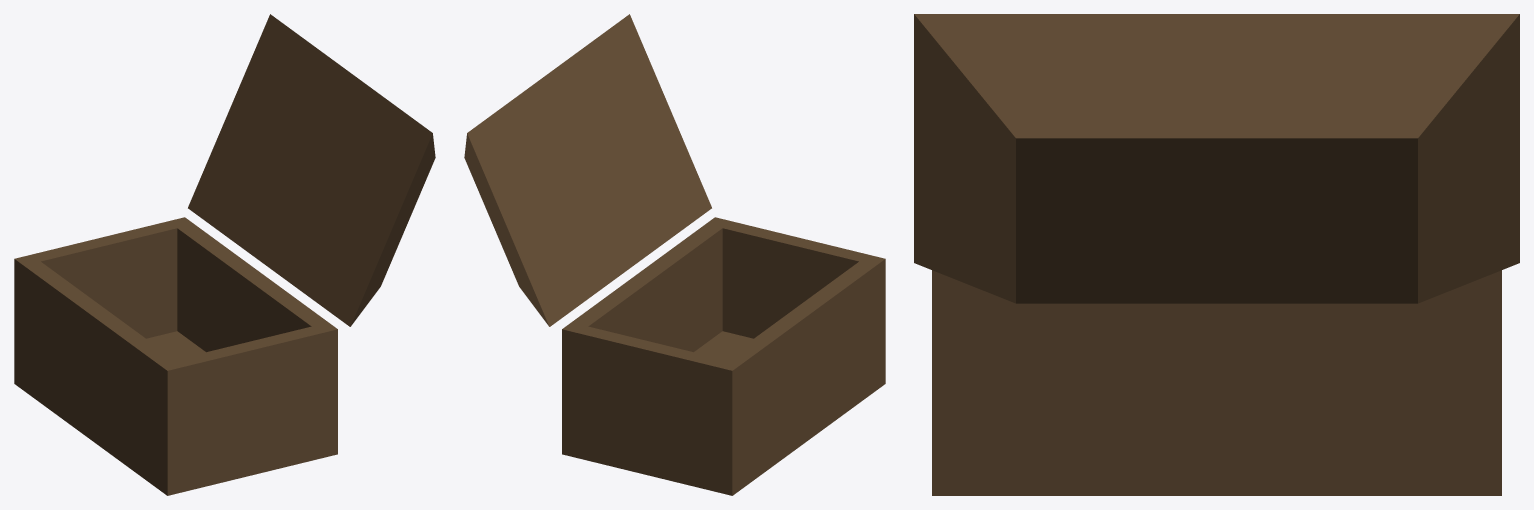
File: animated-model.glb
3 renders of one model, left to right at view 1: azimuth 30°, elevation 25°; view 2: azimuth 150°, elevation 25°; view 3: azimuth 270°, elevation 25°, orthographic. The views are drawn at different scales.
Visible parts, largest first — view 1: Cube, Plane; view 2: Cube, Plane; view 3: Plane, Cube.
Part boxes in pixels (left/top/right/bottom): Cube: left=14, top=217, right=337, bottom=495; Plane: left=188, top=14, right=435, bottom=326; Cube: left=562, top=217, right=885, bottom=495; Plane: left=464, top=14, right=711, bottom=326; Plane: left=914, top=14, right=1519, bottom=303; Cube: left=932, top=270, right=1501, bottom=495.
Size of the model in its own units: 4.86 by 4.84 by 4.71.
